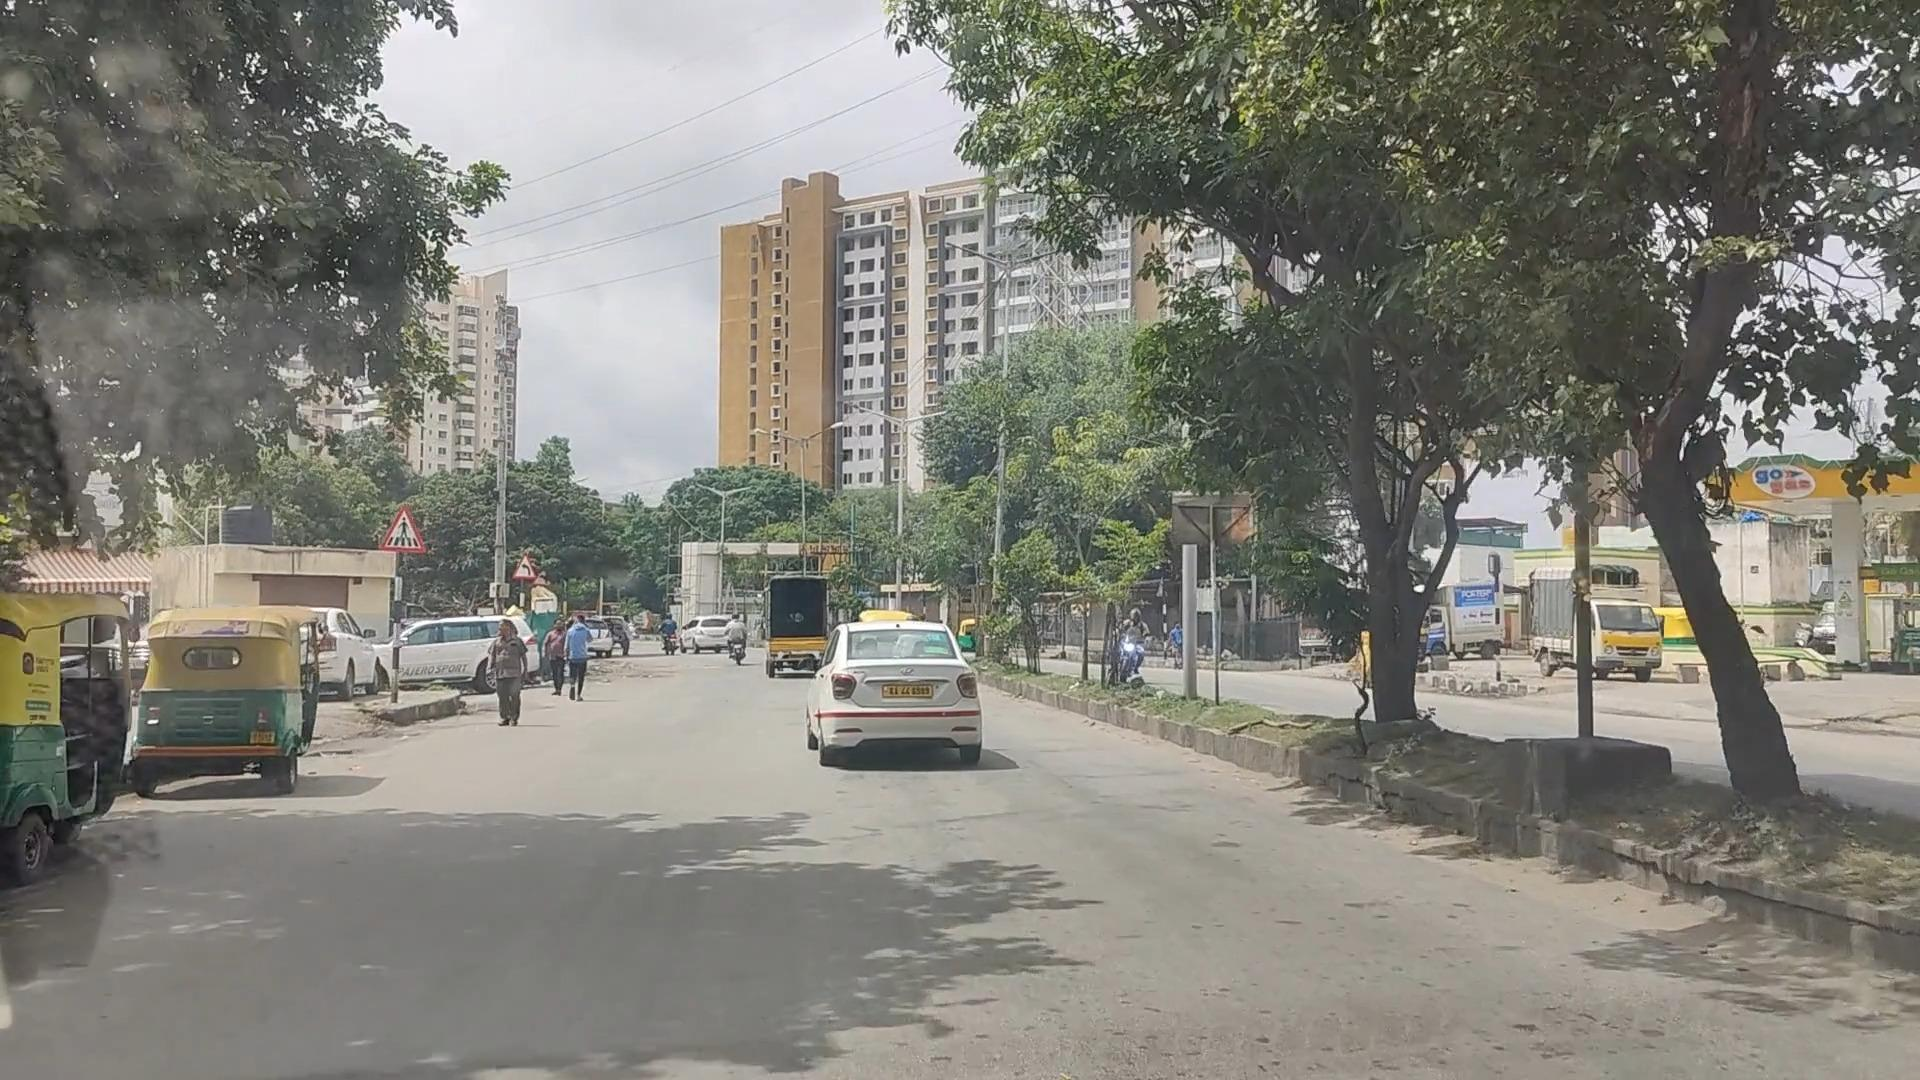LMV: (807, 620, 980, 774), (138, 638, 313, 787)
